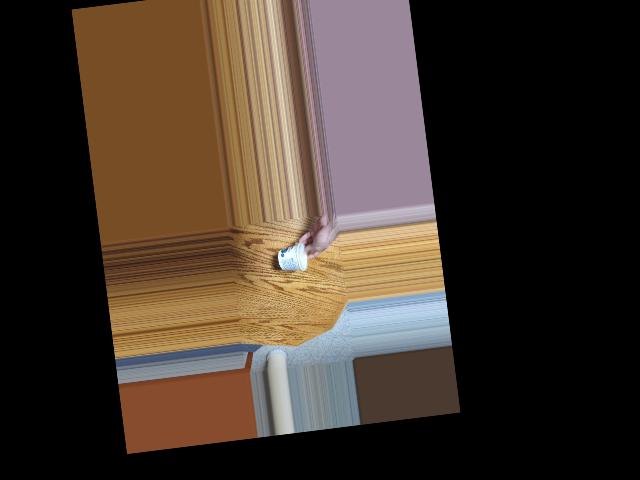cotage: (281, 244, 314, 275)
